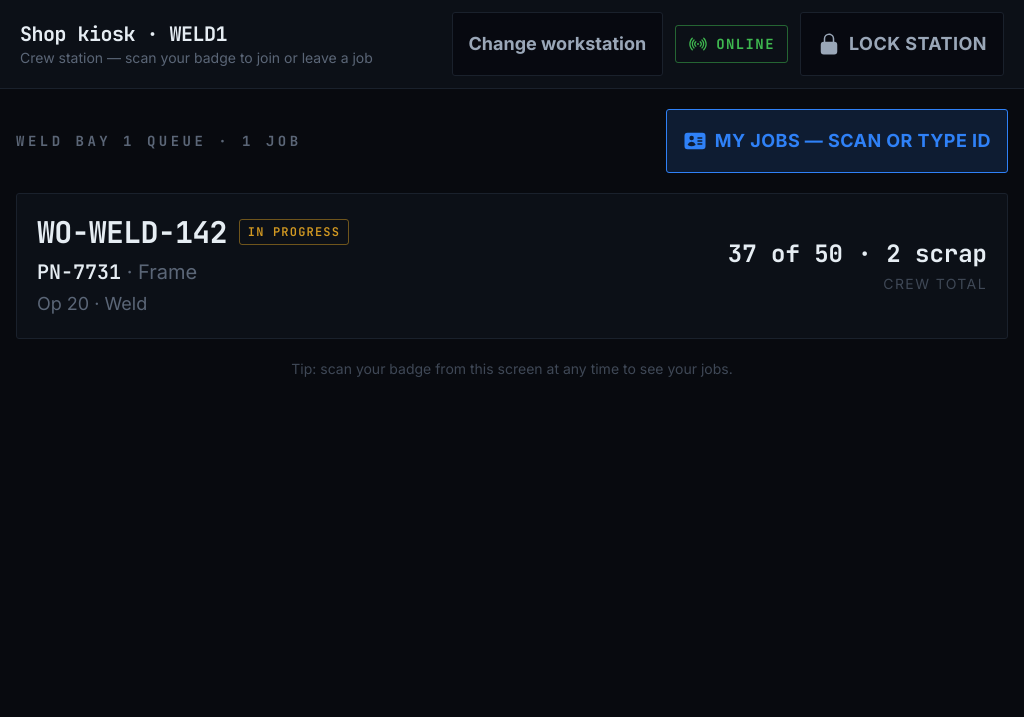
Test: CrewStationKiosk workstation selection › locks the station when the selection request rejects its session
Expected: the button "WO-WELD-142" is shown, [16,193,1008,339]
Step 1. Click the button "Change workstation" → click(557, 44), box [452,12,663,76]
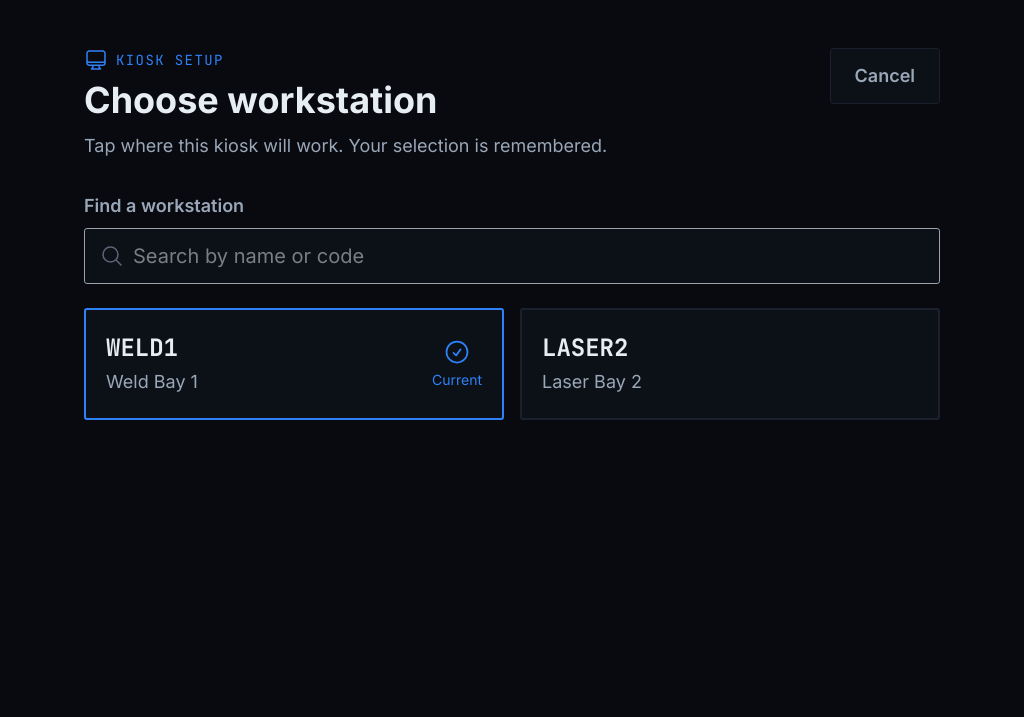
Result: the heading "Choose workstation" is shown at [84,78,438,122]
Step 2. Click the button "LASER2 Laser Bay 2" → click(585, 348), box [520,308,940,420]
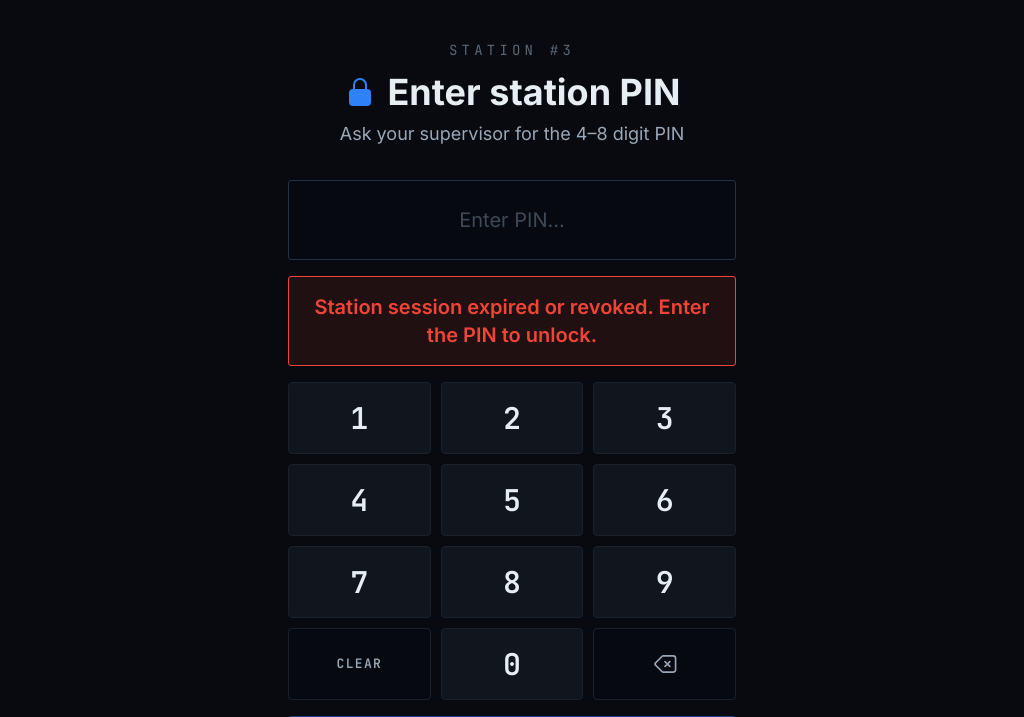
Result: the heading "Enter station PIN" is shown at [344,70,680,114]
Result: the message shows "Station session expired or revoked" at [314,295,710,347]
Result: the heading "Choose workstation" is gone
